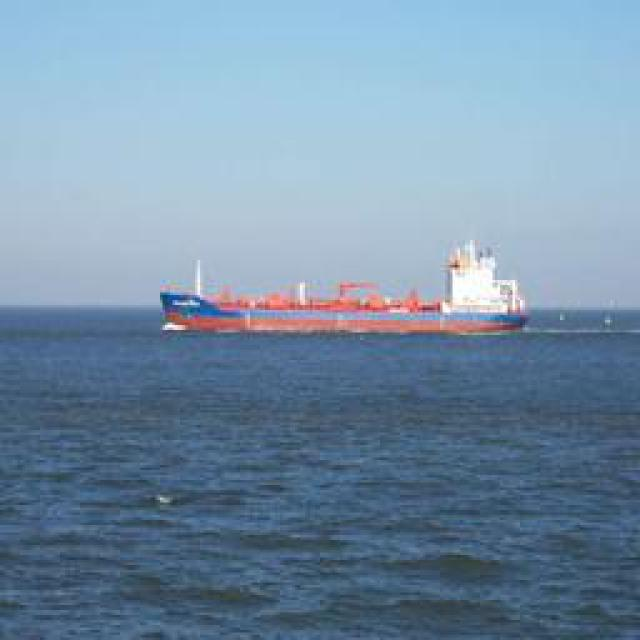Ship: (160, 240, 523, 338)
